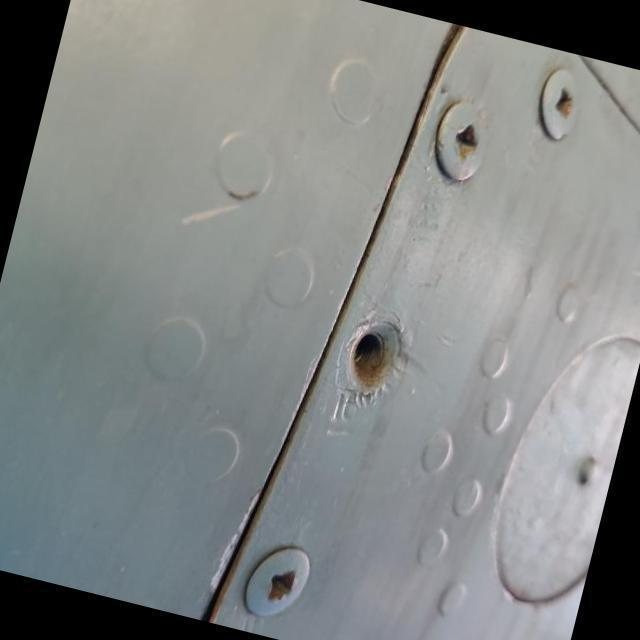Fastener Damage: (296, 280, 440, 447)
